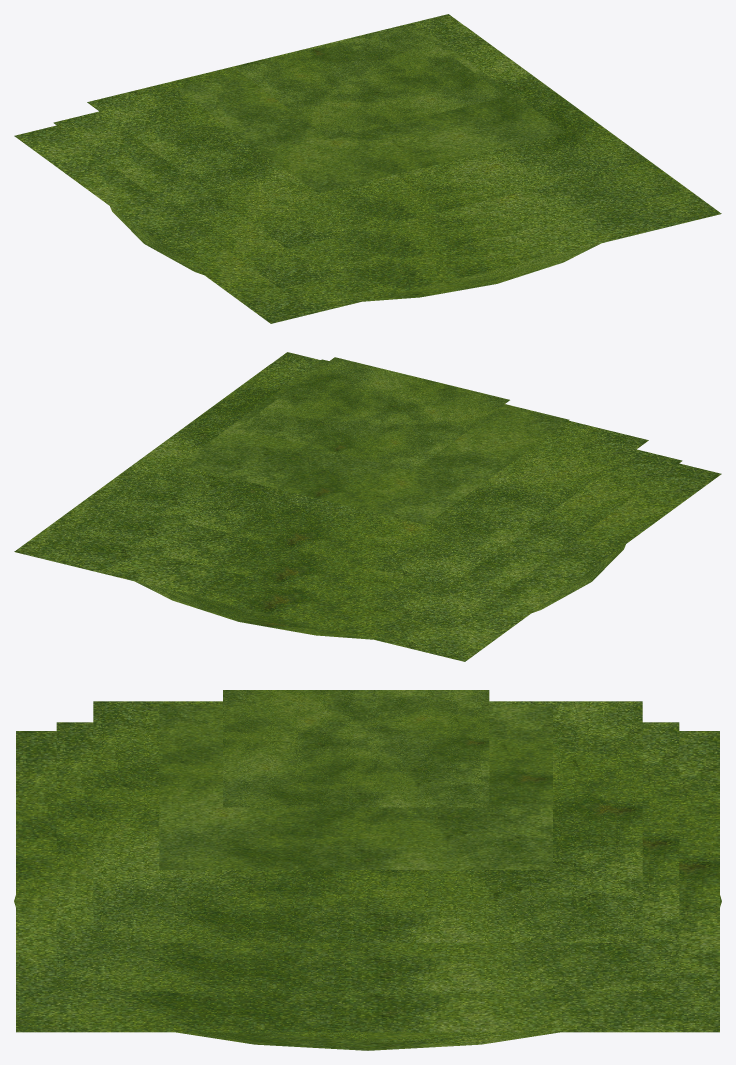
File: square_moss.glb
3 renders of one model, top to bottom at view 1: azimuth 30°, elevation 25°; view 2: azimuth 150°, elevation 25°; view 3: azimuth 270°, elevation 25°, orthographic. The views are drawn at different scales.
Parts seen in each view (by area): view 1: Plane.003, Plane.001, Plane.002, Plane.004, Plane.005, Plane; view 2: Plane.003, Plane.001, Plane.002, Plane.004, Plane.005, Plane; view 3: Plane.003, Plane.001, Plane.002, Plane.004, Plane.005, Plane.
Boxes of the visible parts, x1,y1,x2,y2 form: Plane.003: [87, 14, 648, 248]; Plane.001: [14, 27, 721, 323]; Plane.002: [53, 111, 682, 288]; Plane.004: [175, 27, 565, 193]; Plane.005: [234, 25, 506, 139]; Plane: [110, 206, 600, 301]; Plane.003: [87, 352, 648, 586]; Plane.001: [14, 365, 721, 661]; Plane.002: [53, 449, 682, 626]; Plane.004: [178, 359, 569, 524]; Plane.005: [238, 357, 509, 470]; Plane: [135, 544, 625, 639]; Plane.003: [93, 701, 642, 942]; Plane.001: [16, 731, 719, 1032]; Plane.002: [56, 722, 679, 991]; Plane.004: [159, 704, 552, 869]; Plane.005: [223, 690, 489, 807]; Plane: [14, 895, 721, 1050].
Bounding box in the file's own units: 1.82 × 0.4264 × 1.81.
6 materials, 6 textured.
